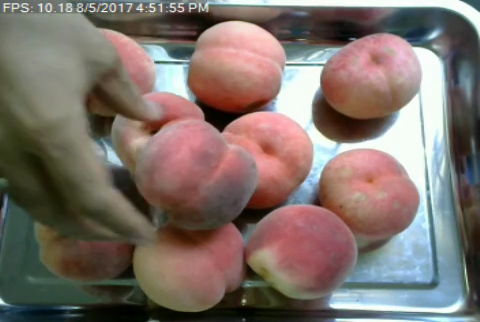Peach: (136, 117, 258, 228), (245, 204, 357, 300), (137, 219, 250, 311), (317, 146, 419, 242), (316, 32, 420, 122), (187, 19, 286, 112), (220, 109, 312, 208)
